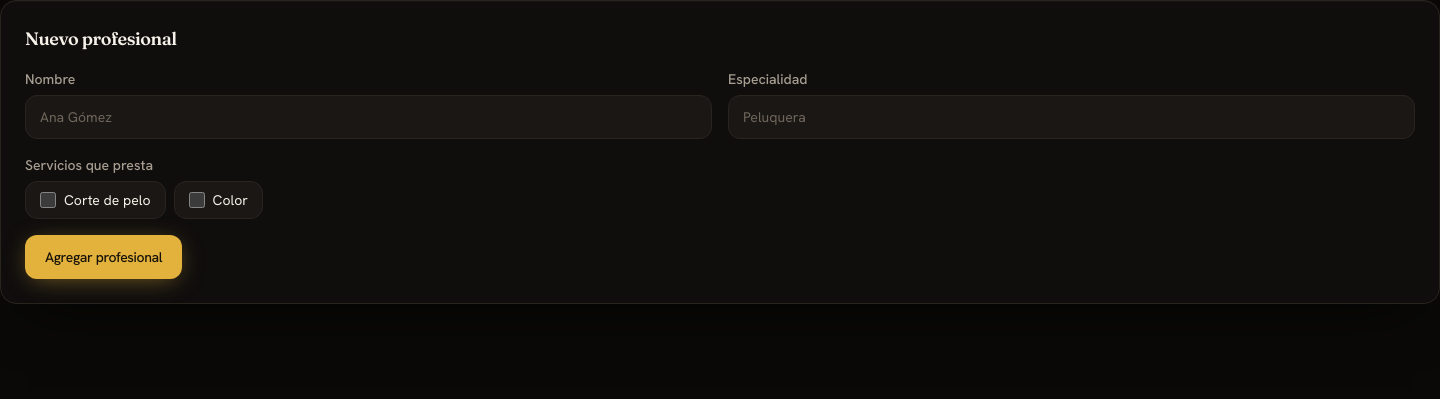
Test: StaffForm › shows the general message and the per-field errors returned by the action
The width and height of the screenshot is (1440, 399).
Click the button "Agregar profesional": (104, 257) [25,235,182,279]
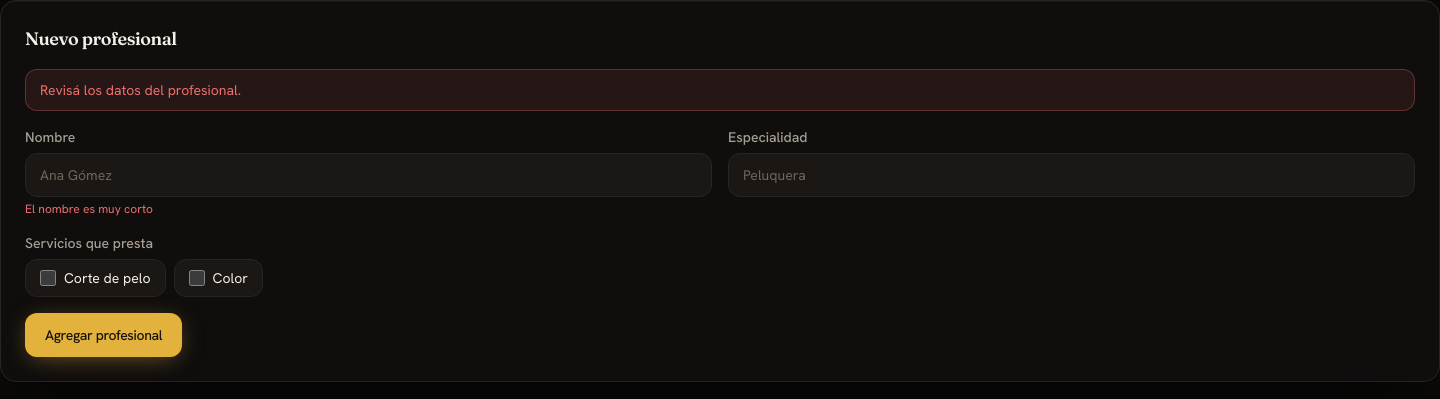
Now the text "Revisá los datos del profesional." is shown, box [25,69,1415,111]
Now the text "El nombre es muy corto" is shown, box [25,201,153,217]
